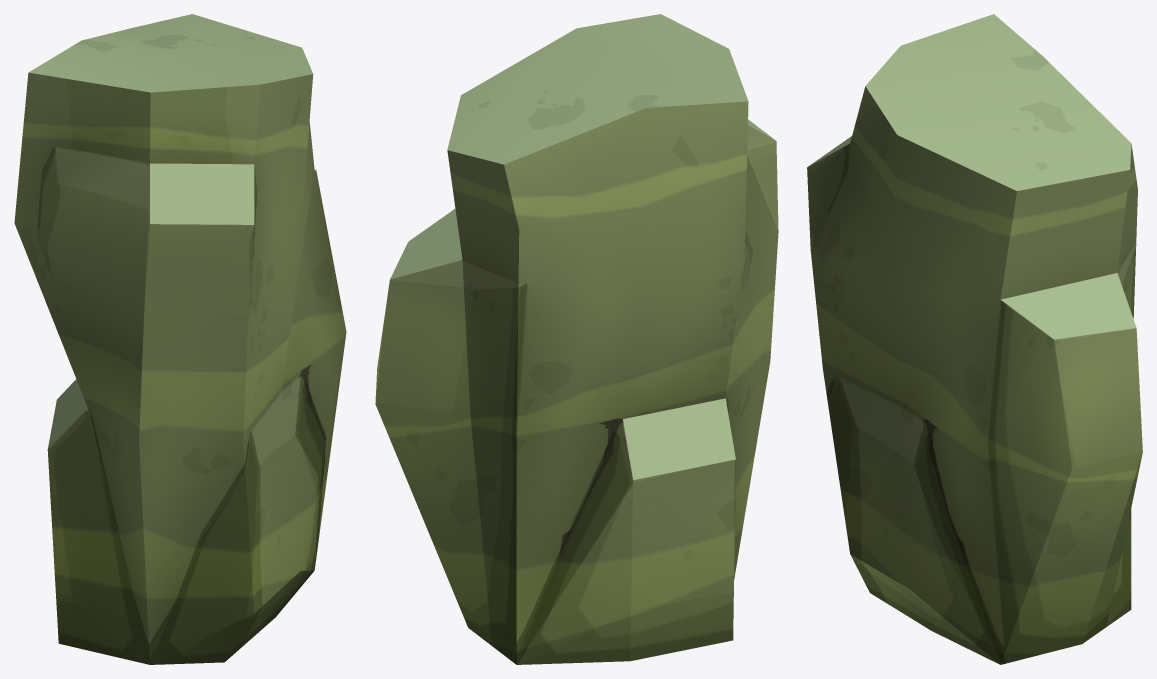
File: F_W_O_rock_005.fbx
The picture shows the model from 3 angles, left to right: view 1: azimuth 30°, elevation 25°; view 2: azimuth 150°, elevation 25°; view 3: azimuth 270°, elevation 25°; orthographic projection. The views are drawn at different scales.
Visible parts, largest first — view 1: F_W_O_rock_005; view 2: F_W_O_rock_005; view 3: F_W_O_rock_005.
Part boxes in pixels (x1,y1,x2,y2): F_W_O_rock_005: [14, 14, 346, 664]; F_W_O_rock_005: [375, 14, 778, 664]; F_W_O_rock_005: [807, 14, 1142, 664].
Size of the model in its own units: 6.99 by 10.96 by 6.39.
